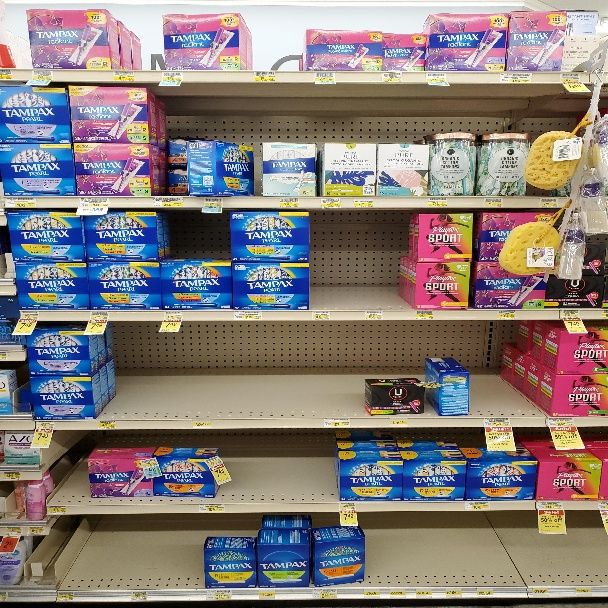All PRICE TAGS: (499, 73, 532, 83), (6, 198, 36, 208), (206, 589, 232, 600), (79, 198, 109, 207), (154, 197, 182, 206), (312, 589, 337, 599), (548, 417, 575, 426), (537, 501, 564, 510), (465, 501, 490, 510), (199, 503, 224, 512), (325, 418, 350, 427), (234, 311, 262, 319), (483, 418, 510, 426), (31, 70, 53, 79), (113, 71, 135, 80), (254, 72, 276, 81), (388, 588, 407, 598), (363, 587, 380, 598), (428, 198, 448, 207), (162, 71, 182, 80), (561, 73, 581, 82), (353, 198, 373, 207), (202, 198, 224, 206), (415, 310, 434, 319), (484, 198, 503, 207), (314, 73, 335, 81), (279, 198, 300, 206), (260, 590, 278, 599), (365, 310, 383, 319), (3, 471, 21, 480), (163, 311, 183, 319), (382, 73, 402, 81), (426, 73, 446, 81), (321, 199, 341, 207), (130, 591, 147, 600), (5, 527, 22, 536), (539, 198, 558, 206), (478, 588, 494, 597), (446, 588, 462, 597), (416, 588, 432, 597), (389, 419, 407, 427), (98, 420, 116, 428), (498, 310, 516, 318), (312, 311, 330, 319), (22, 311, 39, 319), (562, 310, 579, 318), (28, 527, 45, 535), (58, 592, 74, 600), (340, 503, 356, 511), (90, 312, 108, 319), (50, 505, 65, 513), (37, 421, 54, 428), (0, 69, 10, 78)
